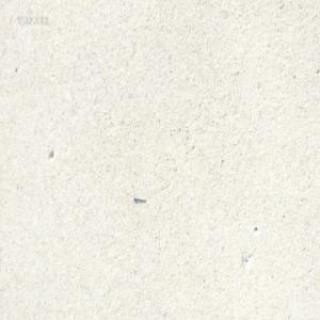Nailtrack_idkeyframe: (130, 192, 146, 202)
